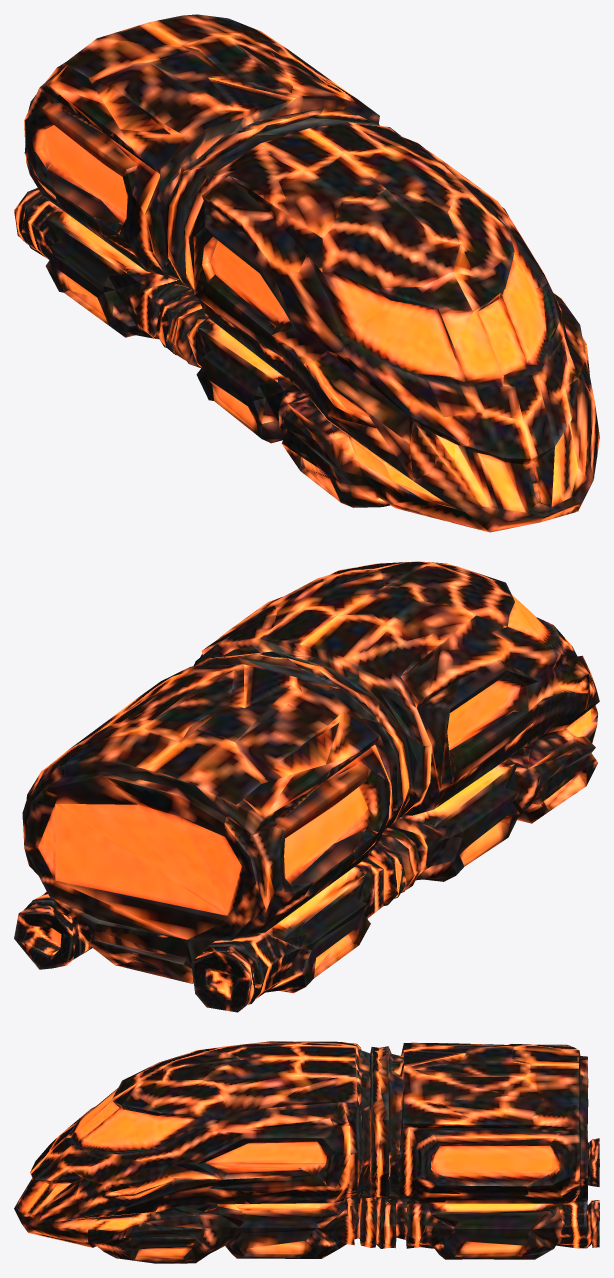
Rendered from train-fire.glb.
The picture shows the model from 3 angles, top to bottom: view 1: azimuth 30°, elevation 25°; view 2: azimuth 150°, elevation 25°; view 3: azimuth 270°, elevation 25°; orthographic projection. The views are drawn at different scales.
Parts seen in each view (by area): view 1: Mesh_0; view 2: Mesh_0; view 3: Mesh_0.
Part boxes in pixels (<box>): Mesh_0: <box>14,14,599,532</box>; Mesh_0: <box>14,561,599,1012</box>; Mesh_0: <box>14,1041,599,1263</box>.
Size of the model in its own units: 0.6995 by 0.6 by 1.9.
1 material, 1 textured.
